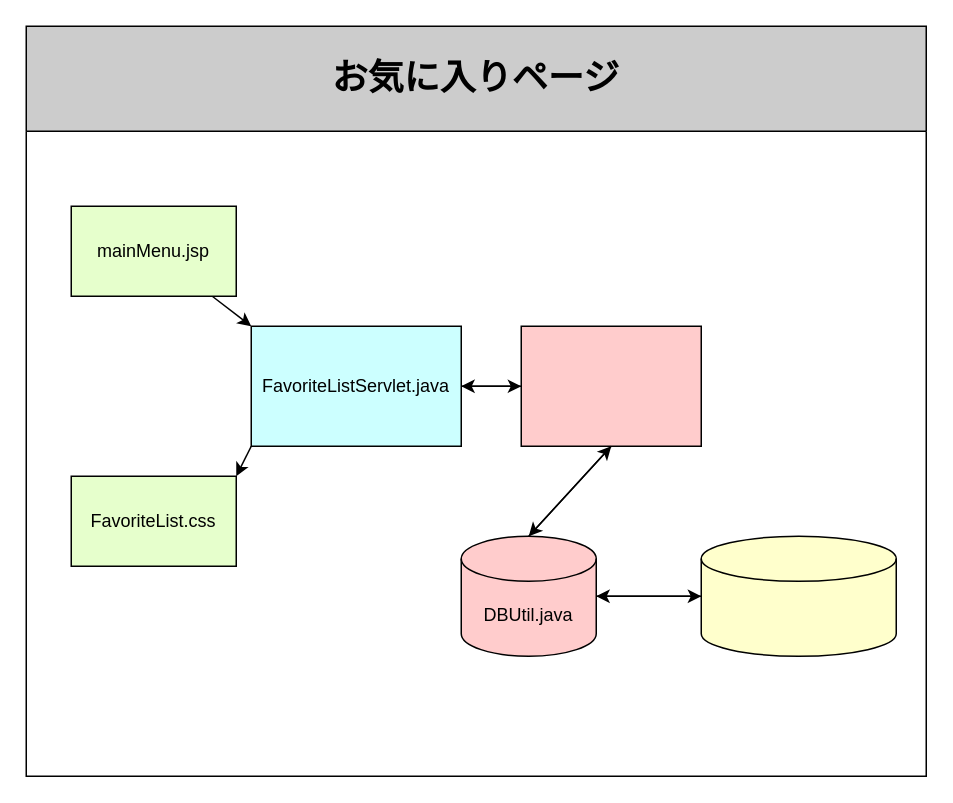
This 953x803 diagram has some shape labels left out. Here are the shapes that lost their labels. From the top down, the box of each, then its label:
(520, 325, 701, 446): FavoriteDAO
(700, 535, 896, 656): DB
